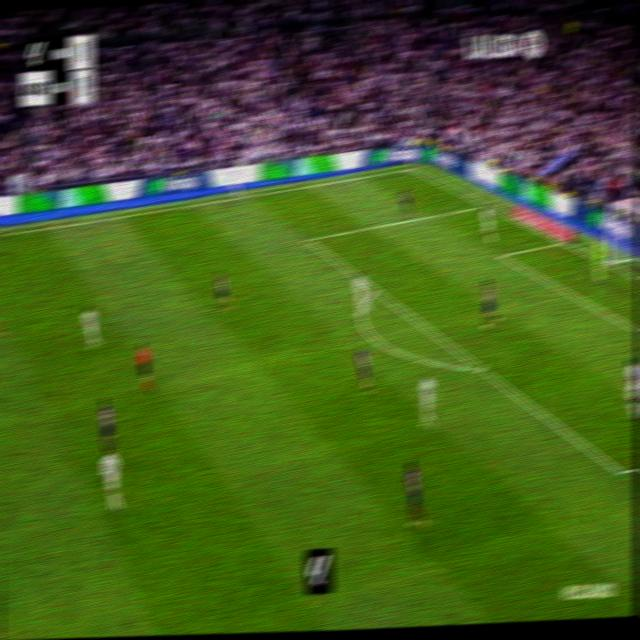bigarea_bottom_inner: (613, 459, 628, 484)
bigarea_top_inner: (302, 229, 314, 247)
bottom_arc_area_intersection: (474, 358, 487, 377)
corner: (405, 162, 417, 172)
smallarea_top_inner: (497, 249, 506, 261)
top_arc_area_intersection: (370, 281, 381, 297)
